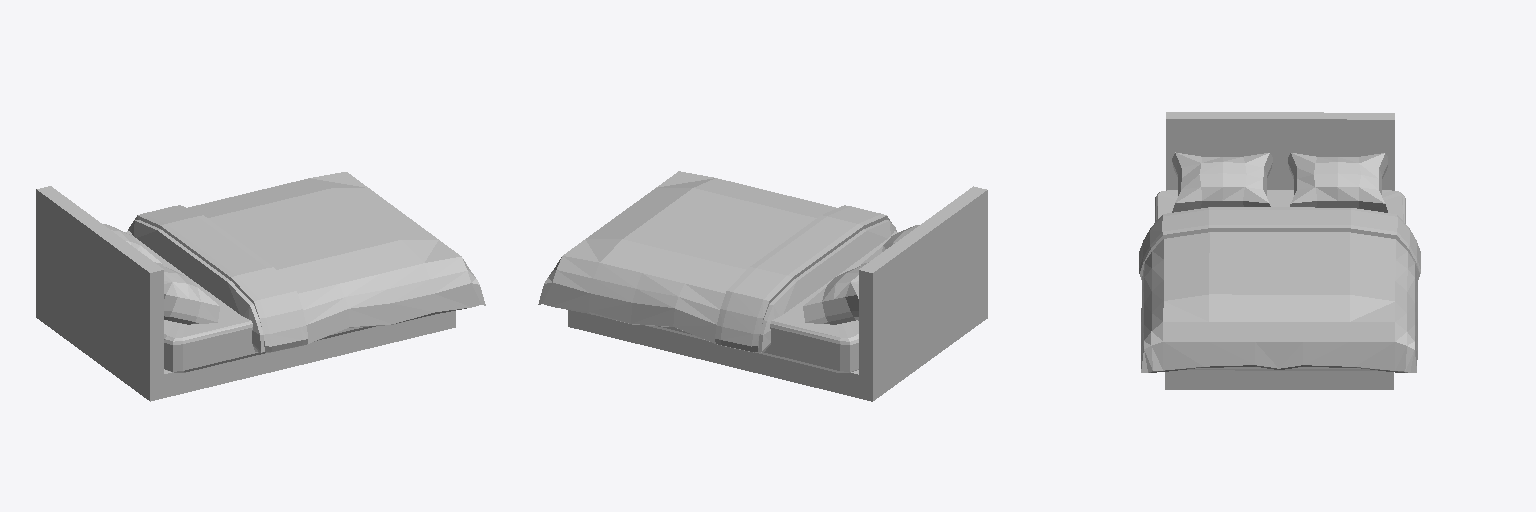
File: Room_301_0_4.obj
3 views of the same model, side by side, from view 1: azimuth 30°, elevation 25°; view 2: azimuth 150°, elevation 25°; view 3: azimuth 270°, elevation 25° (orthographic).
Visible parts, largest first — view 1: Bed; view 2: Bed; view 3: Bed.
Part boxes in pixels (x1,y1,x2,y2): Bed: (36,172,485,401); Bed: (538,171,987,401); Bed: (1139,112,1420,389).
Bounding box in the file's own units: 4.18 × 1.57 × 3.14.